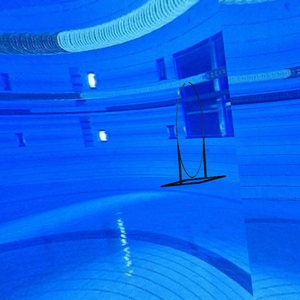circle: (159, 80, 231, 187)
